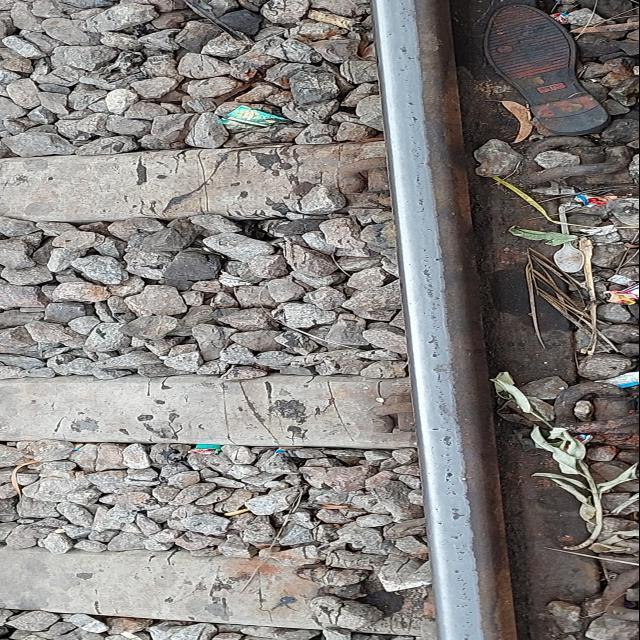broken_rail_medium: (431, 363, 453, 383), (426, 335, 442, 357), (438, 403, 454, 424), (400, 2, 416, 22), (422, 265, 436, 287), (443, 468, 459, 485), (434, 385, 448, 403), (452, 508, 468, 520), (416, 197, 428, 213), (441, 454, 453, 468), (398, 44, 408, 60), (411, 146, 423, 159), (414, 174, 425, 188), (455, 546, 473, 554), (448, 532, 466, 540), (439, 436, 452, 446), (457, 592, 471, 601), (445, 556, 465, 562), (461, 621, 475, 629), (445, 487, 459, 495), (409, 115, 419, 125), (432, 303, 443, 311), (425, 289, 436, 297), (421, 258, 443, 262), (397, 65, 411, 71), (460, 582, 470, 590), (462, 633, 473, 640), (464, 610, 476, 616), (455, 575, 467, 581), (416, 161, 427, 167), (455, 604, 471, 608), (453, 569, 469, 573), (442, 427, 454, 432), (410, 136, 417, 144), (402, 25, 409, 32), (431, 315, 439, 321), (432, 325, 443, 329), (421, 311, 435, 314), (433, 508, 441, 512), (408, 101, 416, 105), (426, 228, 436, 231), (406, 57, 416, 60), (387, 32, 394, 36), (432, 297, 441, 300), (430, 428, 441, 430), (438, 521, 444, 524), (423, 249, 429, 252), (410, 111, 415, 113)
